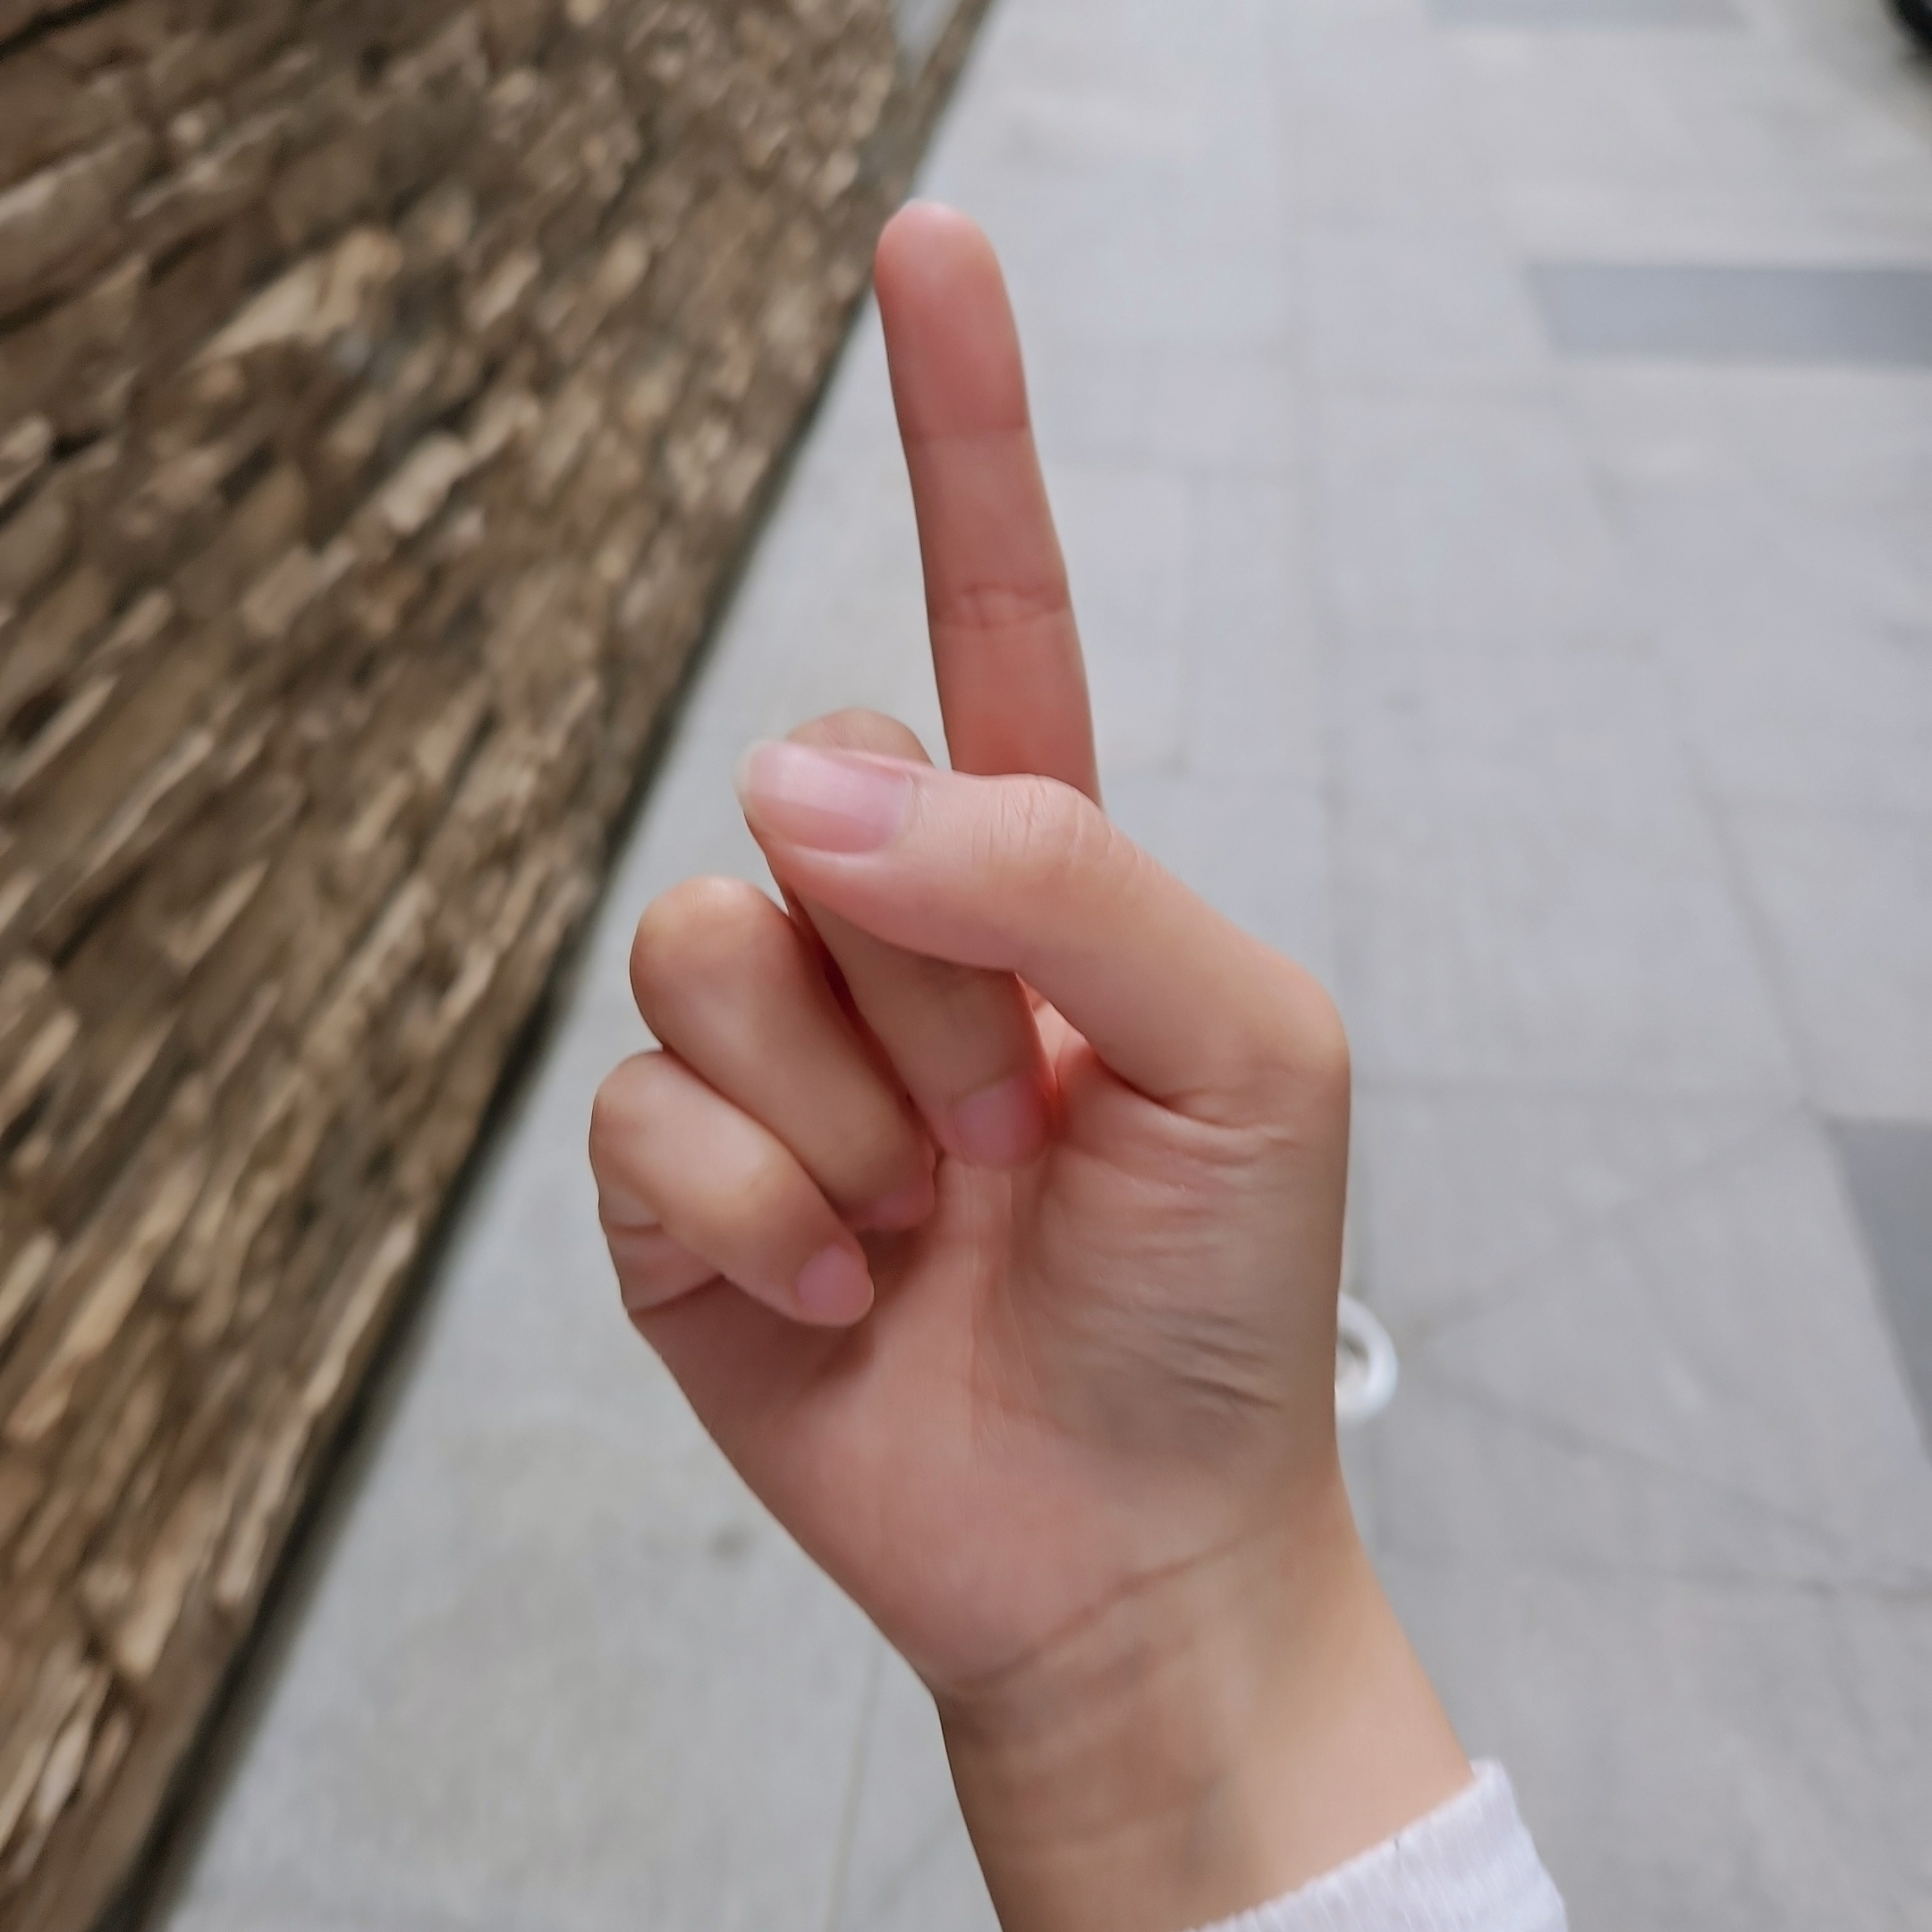what: (568, 198, 1361, 1645)
